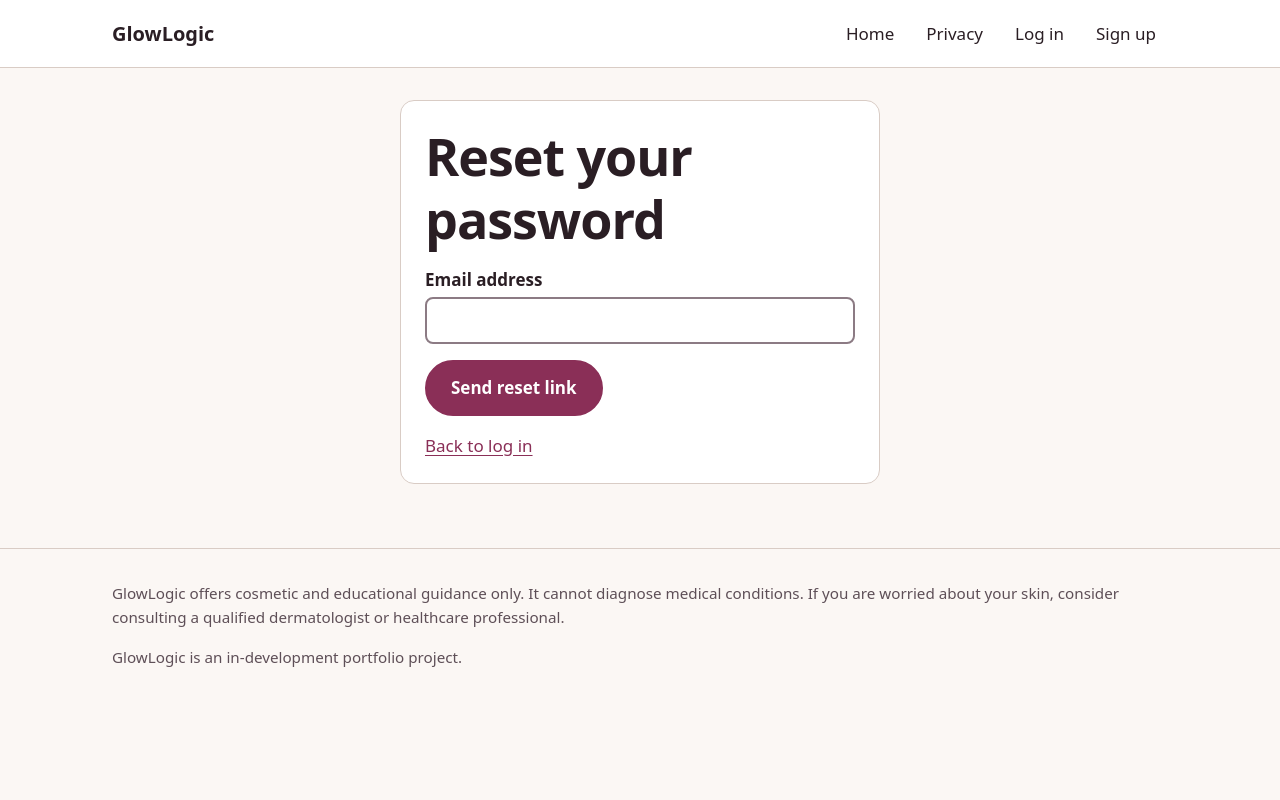
Scenario: auth wiring (no Supabase keys in tests) › validates the forgot-password email before sending
Step 1. Click the button "Send reset link" → (514, 388), box [425,360,603,416]
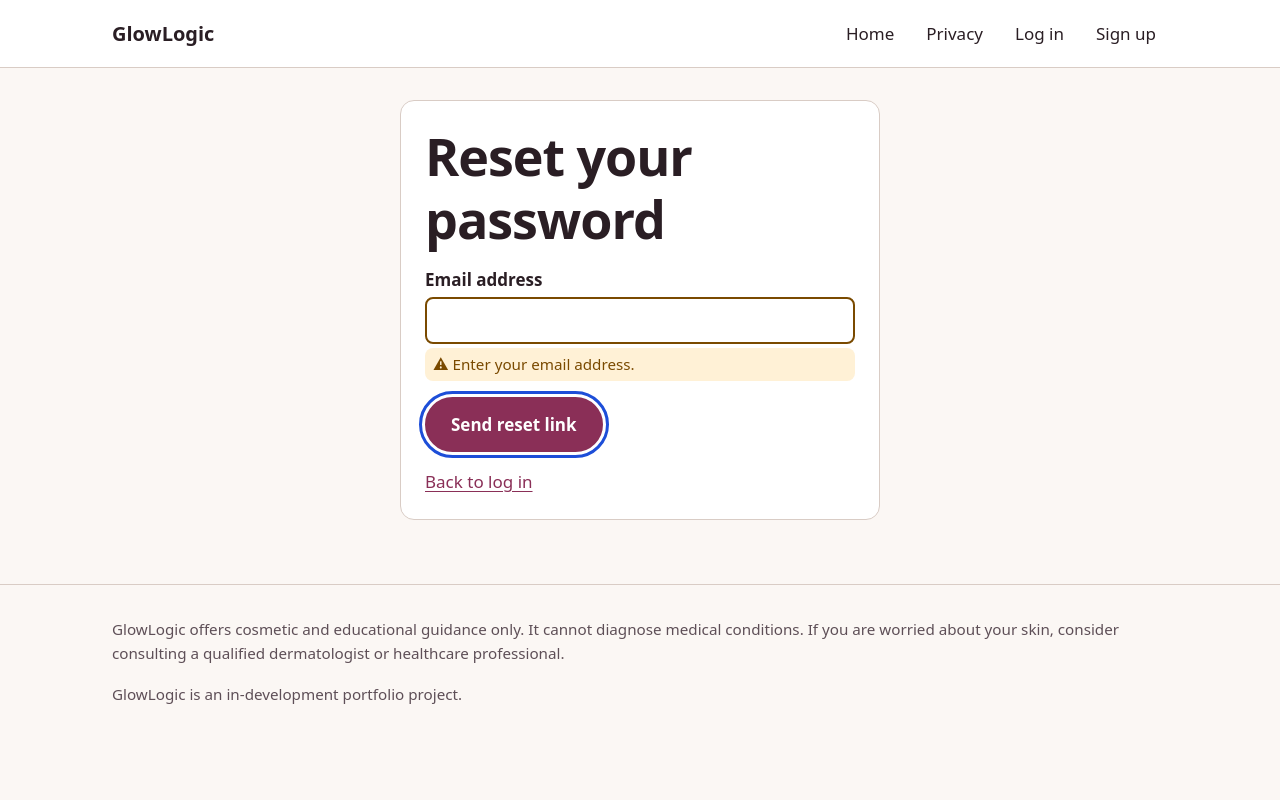
Check: the message shows "email", box [452,354,635,374]
